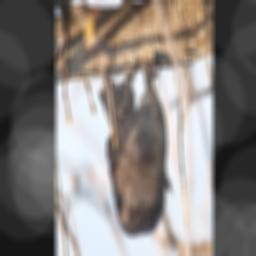Crow: (98, 57, 174, 239)
